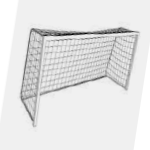goals: (18, 24, 142, 126)
